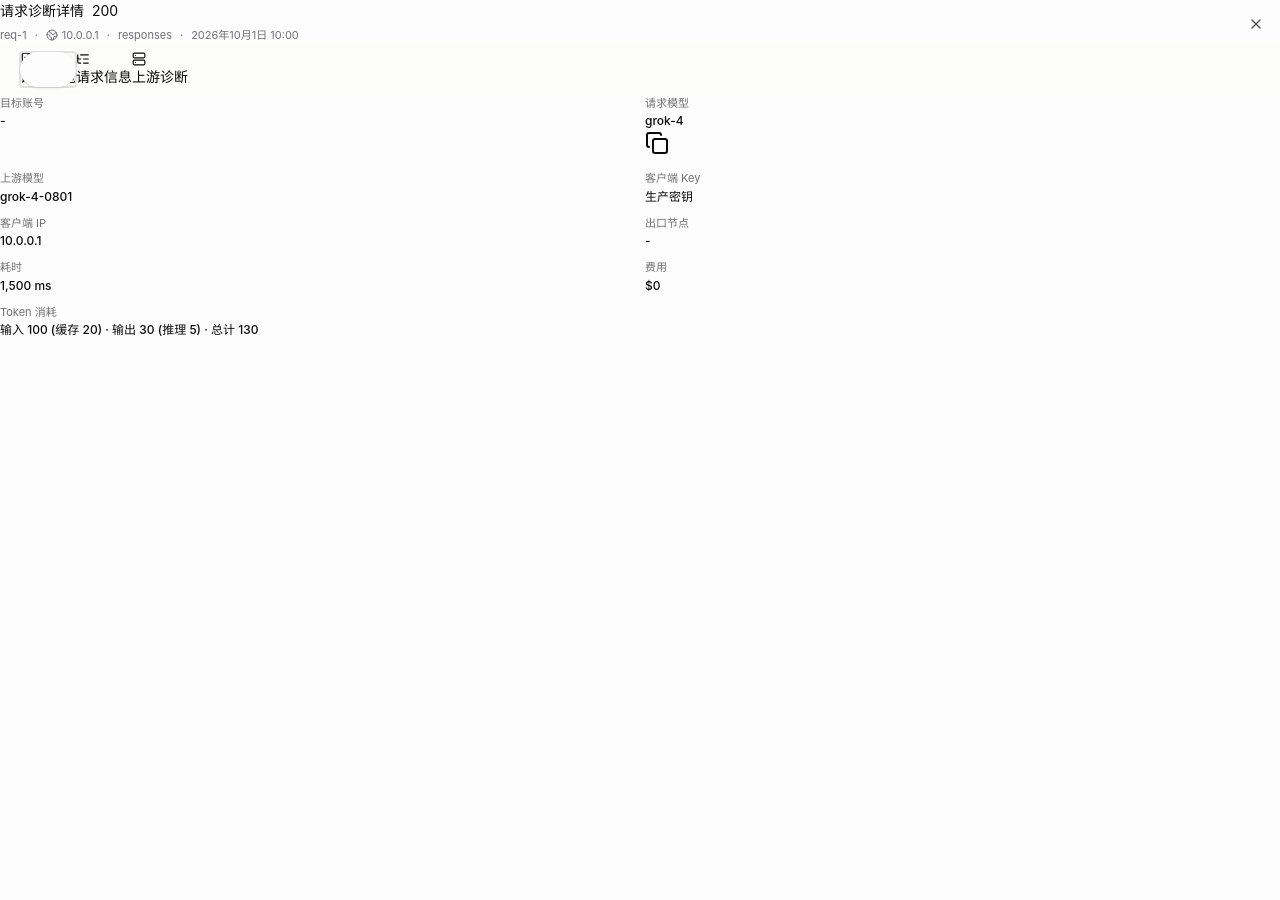
Scenario: RequestAuditDetailDialog 请求元数据与上游尝试 › 无请求元数据时展示空态文案
Click the tab "请求信息": {"x": 104, "y": 69} x1=76 y1=52 x2=132 y2=86
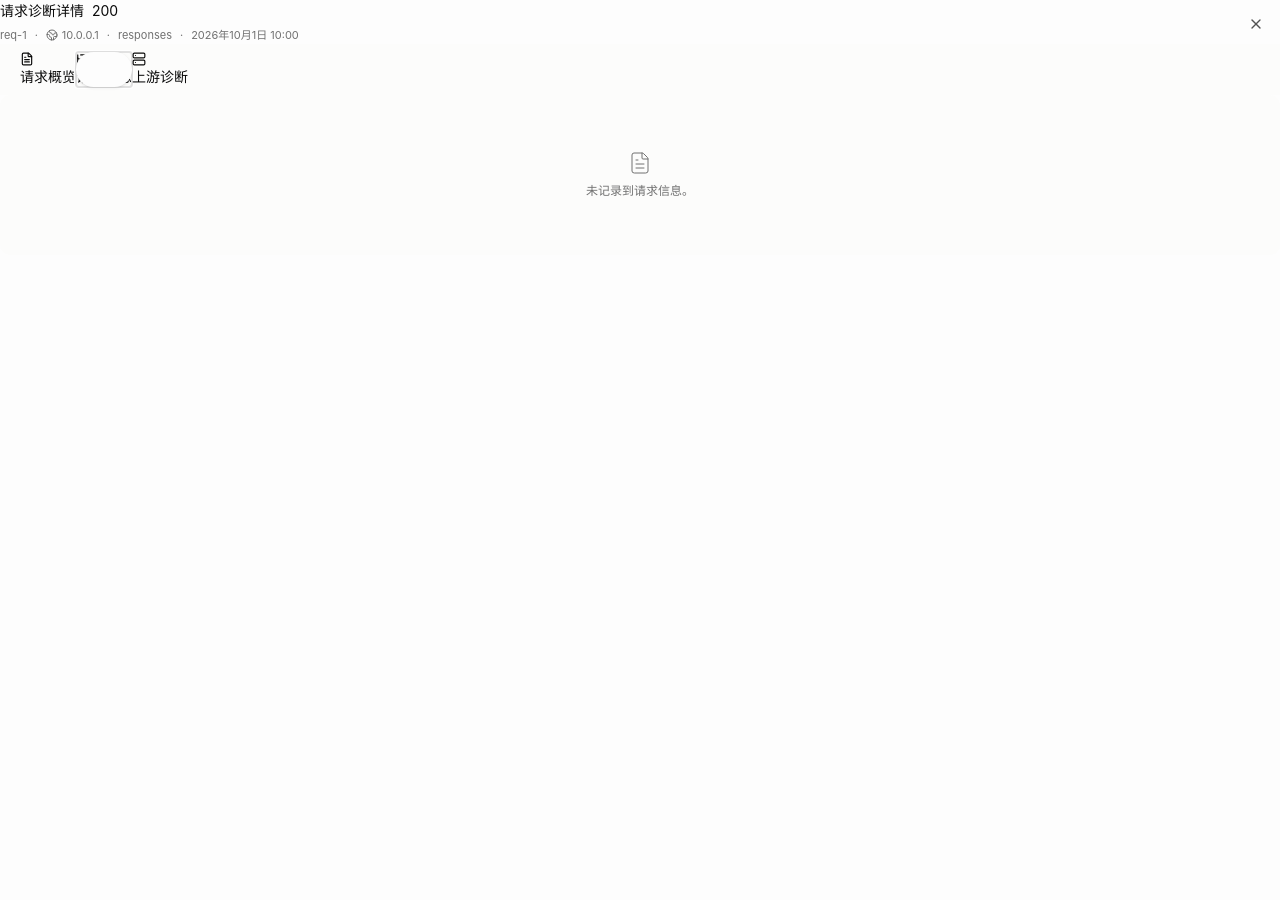
expect the text "未记录到请求信息。" is shown: met, box x1=586 y1=182 x2=694 y2=198
